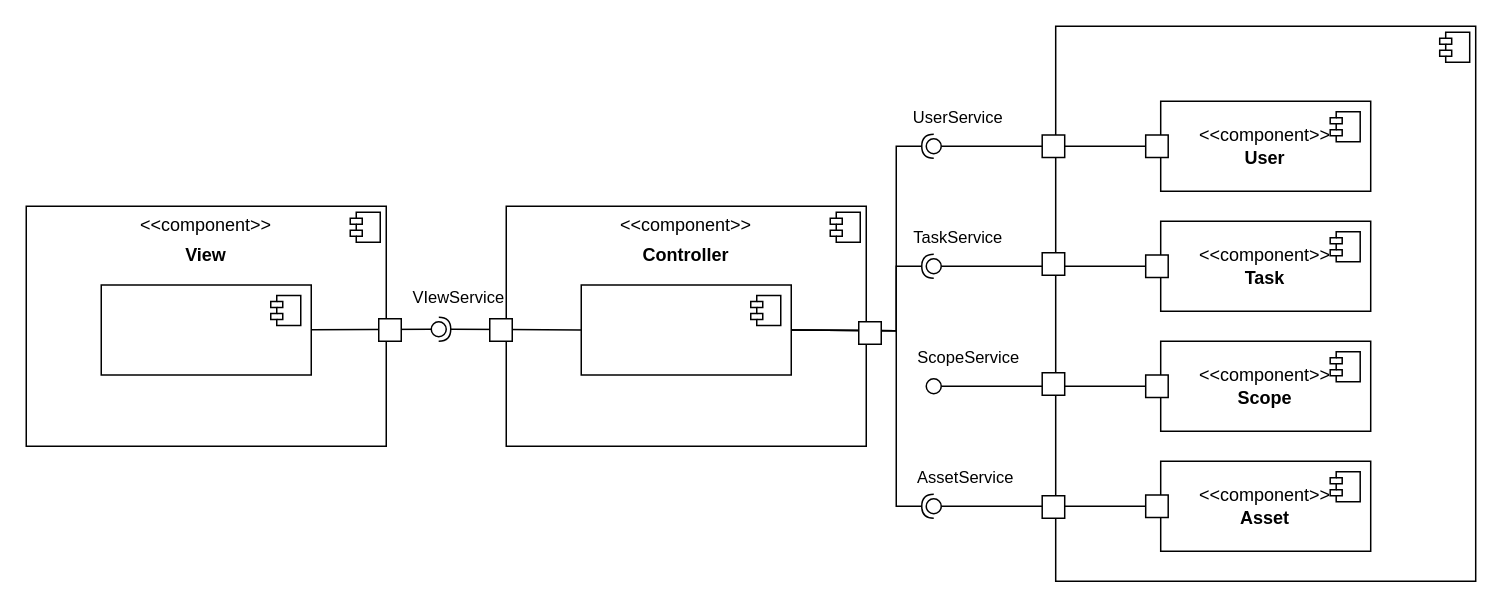
This 1503x608 diagram has some shape labels left out. The shapes that lost their labels are listed below. From the top down, each one's box as (x1, y1, x2, y2) in pixels, then its label:
(1054, 25, 1476, 581): <<component>> Model
(100, 284, 311, 375): <<component>> Task view
(580, 284, 791, 375): <<component>> Task controller
